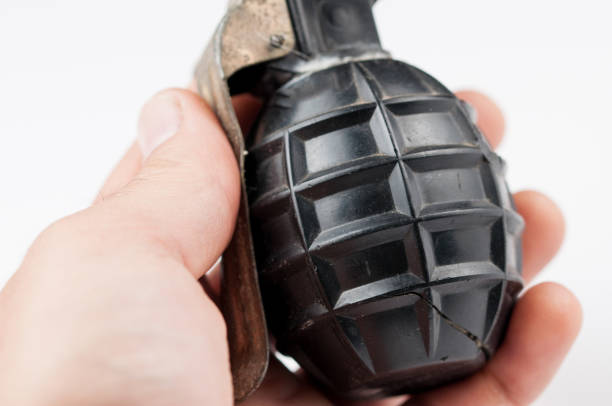e1: (202, 2, 523, 404)
